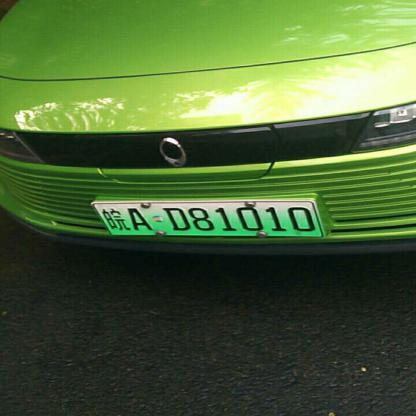lp: (90, 201, 324, 236)
